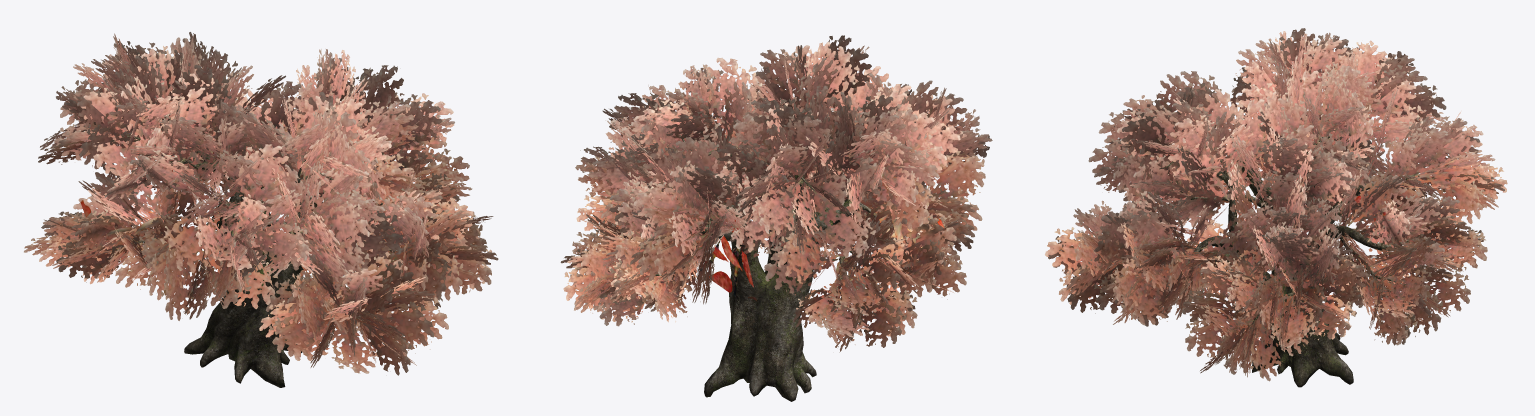
Rendered from sacura.gltf.
3 renders of one model, left to right at view 1: azimuth 30°, elevation 25°; view 2: azimuth 150°, elevation 25°; view 3: azimuth 270°, elevation 25°, orthographic. The views are drawn at different scales.
Parts seen in each view (by area): view 1: sacur_prim2_14_StaticMeshComponent0, sacur_prim4_18_StaticMeshComponent0, sacur_prim6_8_StaticMeshComponent0, sacur_prim0_10_StaticMeshComponent0; view 2: sacur_prim4_18_StaticMeshComponent0, sacur_prim6_8_StaticMeshComponent0, sacur_prim2_14_StaticMeshComponent0, sacur_prim0_10_StaticMeshComponent0; view 3: sacur_prim6_8_StaticMeshComponent0, sacur_prim2_14_StaticMeshComponent0, sacur_prim4_18_StaticMeshComponent0, sacur_prim0_10_StaticMeshComponent0, sacur_prim3_16_StaticMeshComponent0, sacur_prim5_20_StaticMeshComponent0.
Part boxes in pixels (x1,y1,x2,y2): sacur_prim2_14_StaticMeshComponent0: (143, 92, 498, 375); sacur_prim4_18_StaticMeshComponent0: (24, 32, 300, 299); sacur_prim6_8_StaticMeshComponent0: (162, 49, 493, 289); sacur_prim0_10_StaticMeshComponent0: (184, 162, 303, 387); sacur_prim4_18_StaticMeshComponent0: (630, 85, 966, 352); sacur_prim6_8_StaticMeshComponent0: (560, 57, 762, 326); sacur_prim2_14_StaticMeshComponent0: (699, 35, 992, 251); sacur_prim0_10_StaticMeshComponent0: (704, 187, 858, 401); sacur_prim6_8_StaticMeshComponent0: (1182, 128, 1487, 381); sacur_prim2_14_StaticMeshComponent0: (1045, 71, 1307, 341); sacur_prim4_18_StaticMeshComponent0: (1229, 28, 1507, 240); sacur_prim0_10_StaticMeshComponent0: (1249, 162, 1353, 387); sacur_prim3_16_StaticMeshComponent0: (1289, 110, 1419, 285); sacur_prim5_20_StaticMeshComponent0: (1118, 147, 1319, 329).
Size of the model in its own units: 10.84 by 8.17 by 11.51.
8 materials, 8 textured.
